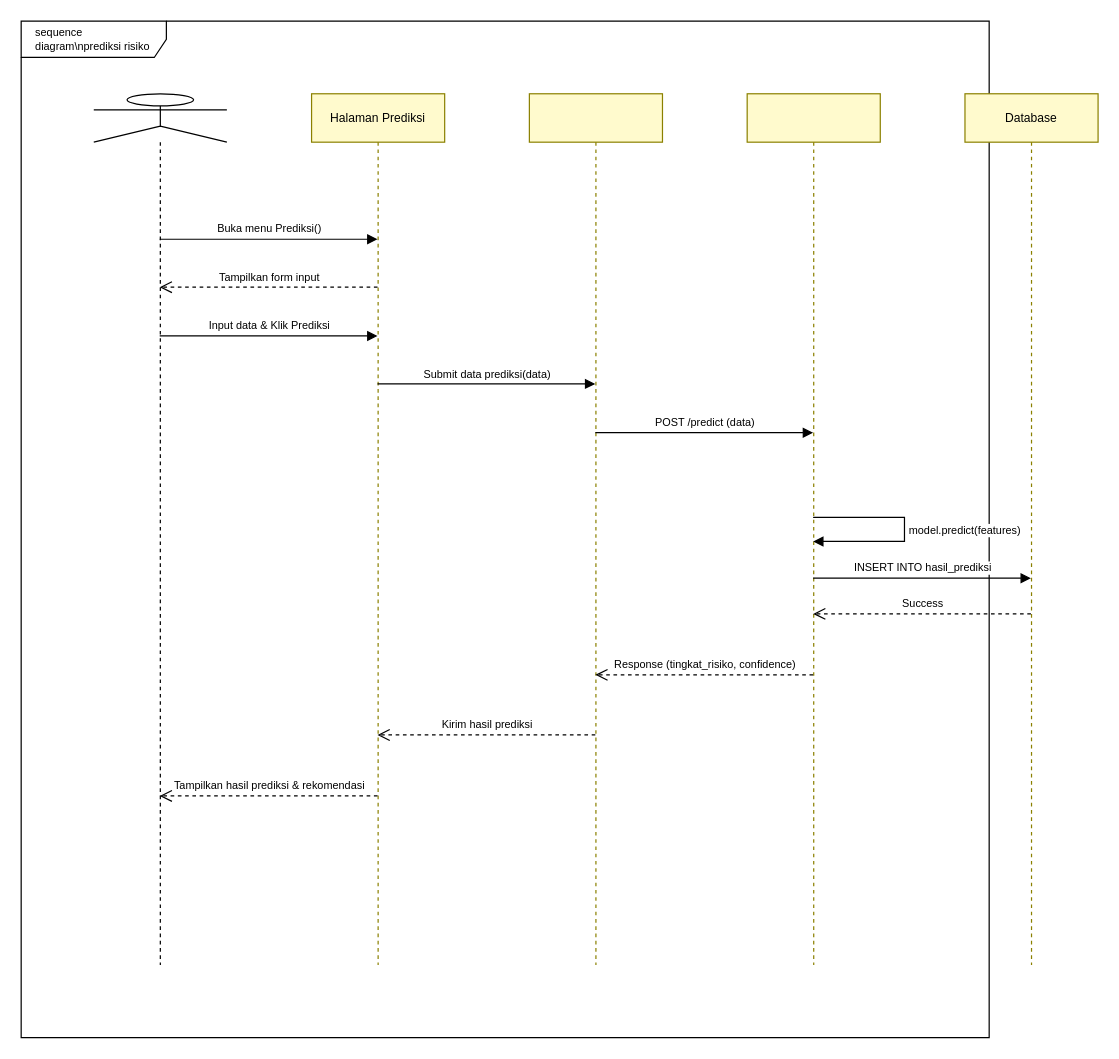
Some shapes in this 1119 by 1059 pixel diagram are drawn without their labels. Each missing label, with the box of its shape:
proses: (528, 93, 662, 965)
Python API: (746, 93, 880, 965)
